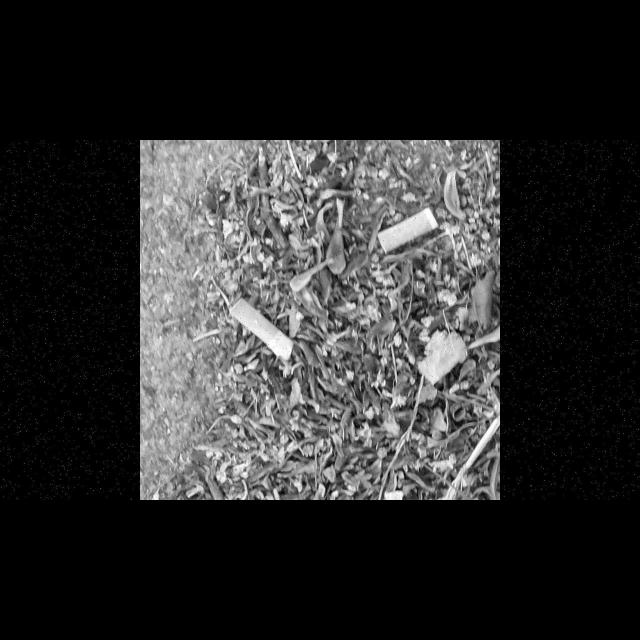cigarette: (229, 296, 295, 362), (376, 207, 440, 254)
